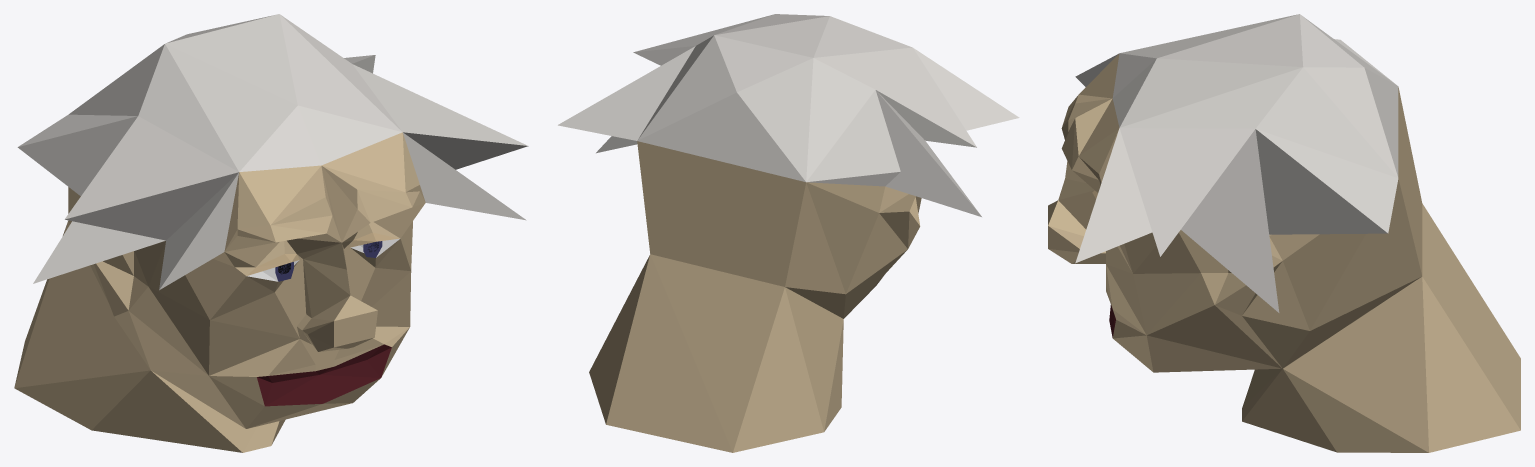
Rendered from model_3444_npc_head.obj.
3 views of the same model, side by side, from view 1: azimuth 30°, elevation 25°; view 2: azimuth 150°, elevation 25°; view 3: azimuth 270°, elevation 25° (orthographic). The views are drawn at different scales.
Visible parts, largest first — view 1: 3444; view 2: 3444; view 3: 3444.
Boxes of the visible parts, box(x1,y1,x2,y2) form: 3444: box(14, 14, 528, 452); 3444: box(558, 14, 1019, 452); 3444: box(1048, 14, 1520, 452).
Bounding box in the file's own units: 145 × 121 × 139.
